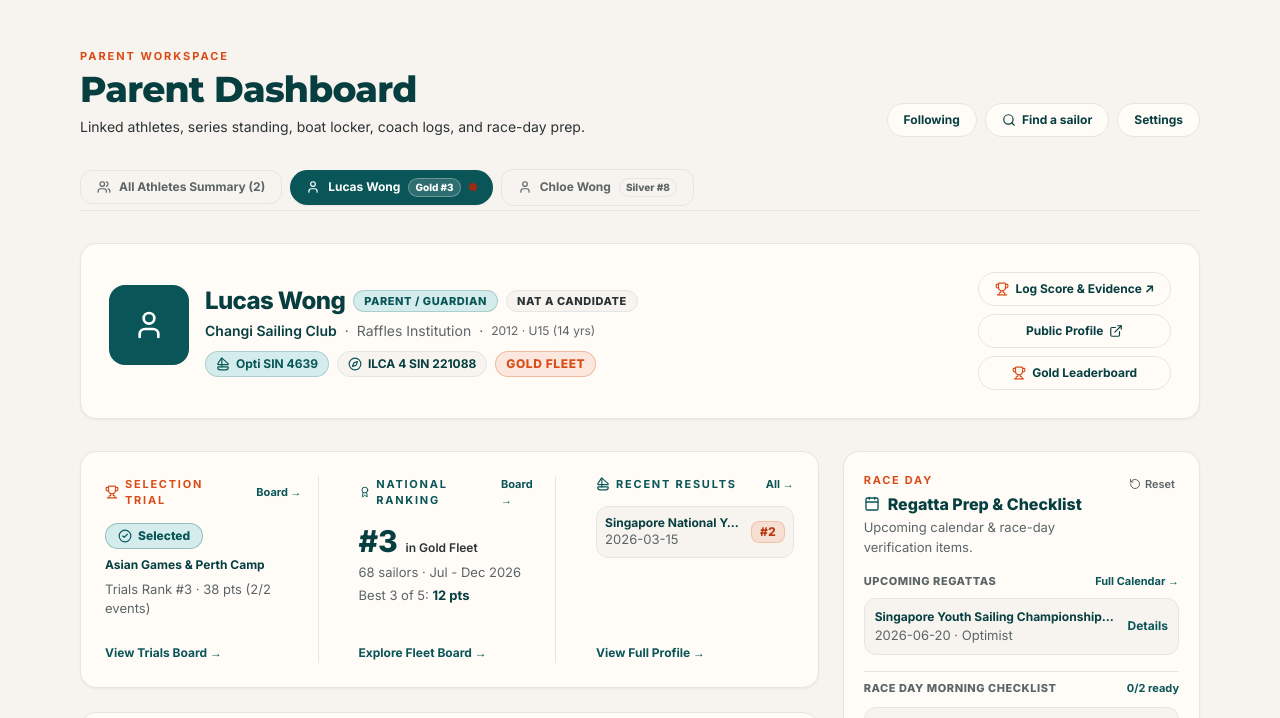
Test case: ParentDashboard › switches to All Athletes Summary view and between athletes
# Click "All Athletes Summary"
Click the tab with test id "tab-all-summary" at [181, 187], box [80,170,282,204]
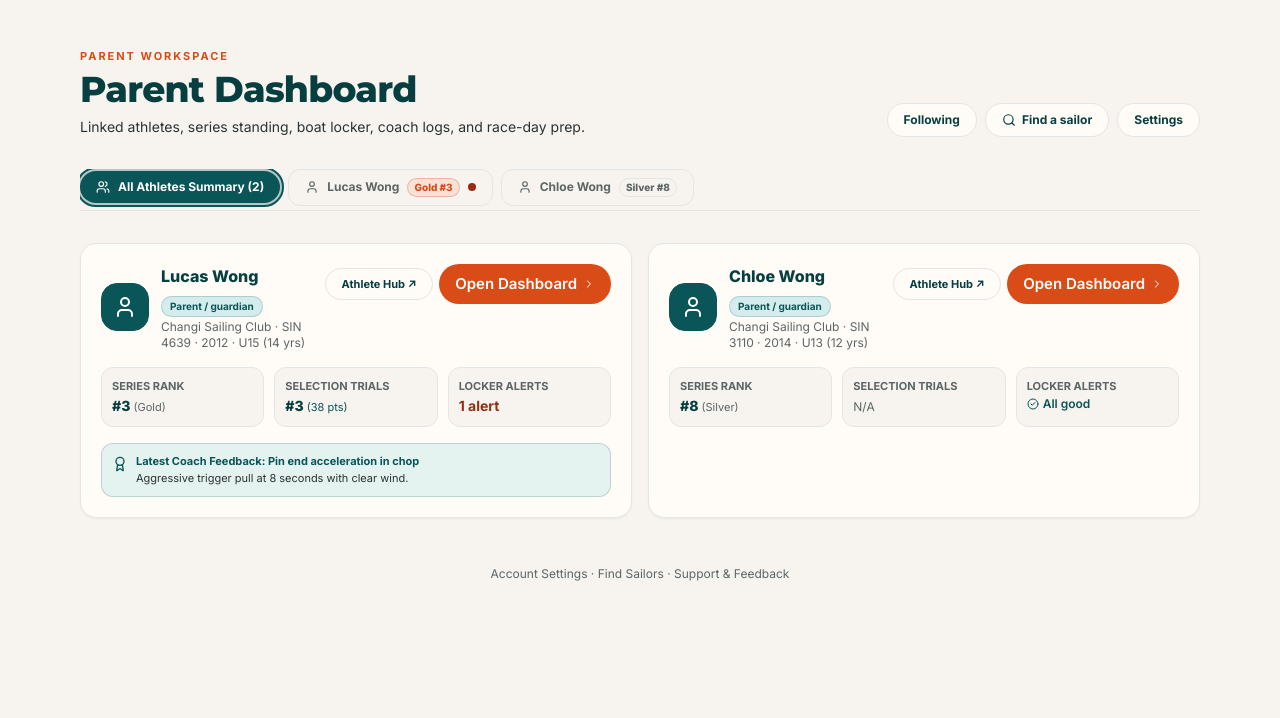
Result: the number of buttons "Open Dashboard" is 2
# Switch to Chloe Wong via the summary card
Click the 2nd button "Open Dashboard" at [1093, 284], box [1007,264,1179,304]
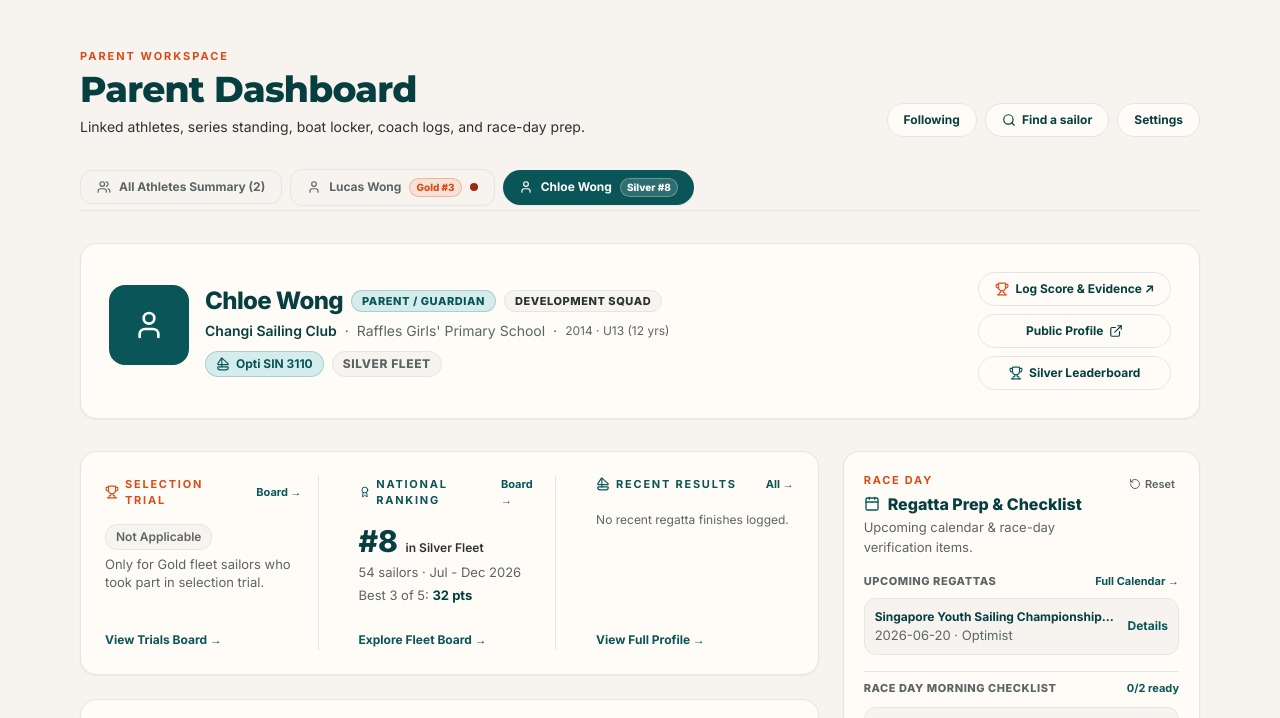
Expected: the text "ILCA 4 SIN 221088" is not shown
Result: the text "Opti SIN 3110" is shown at [205,351,324,377]
